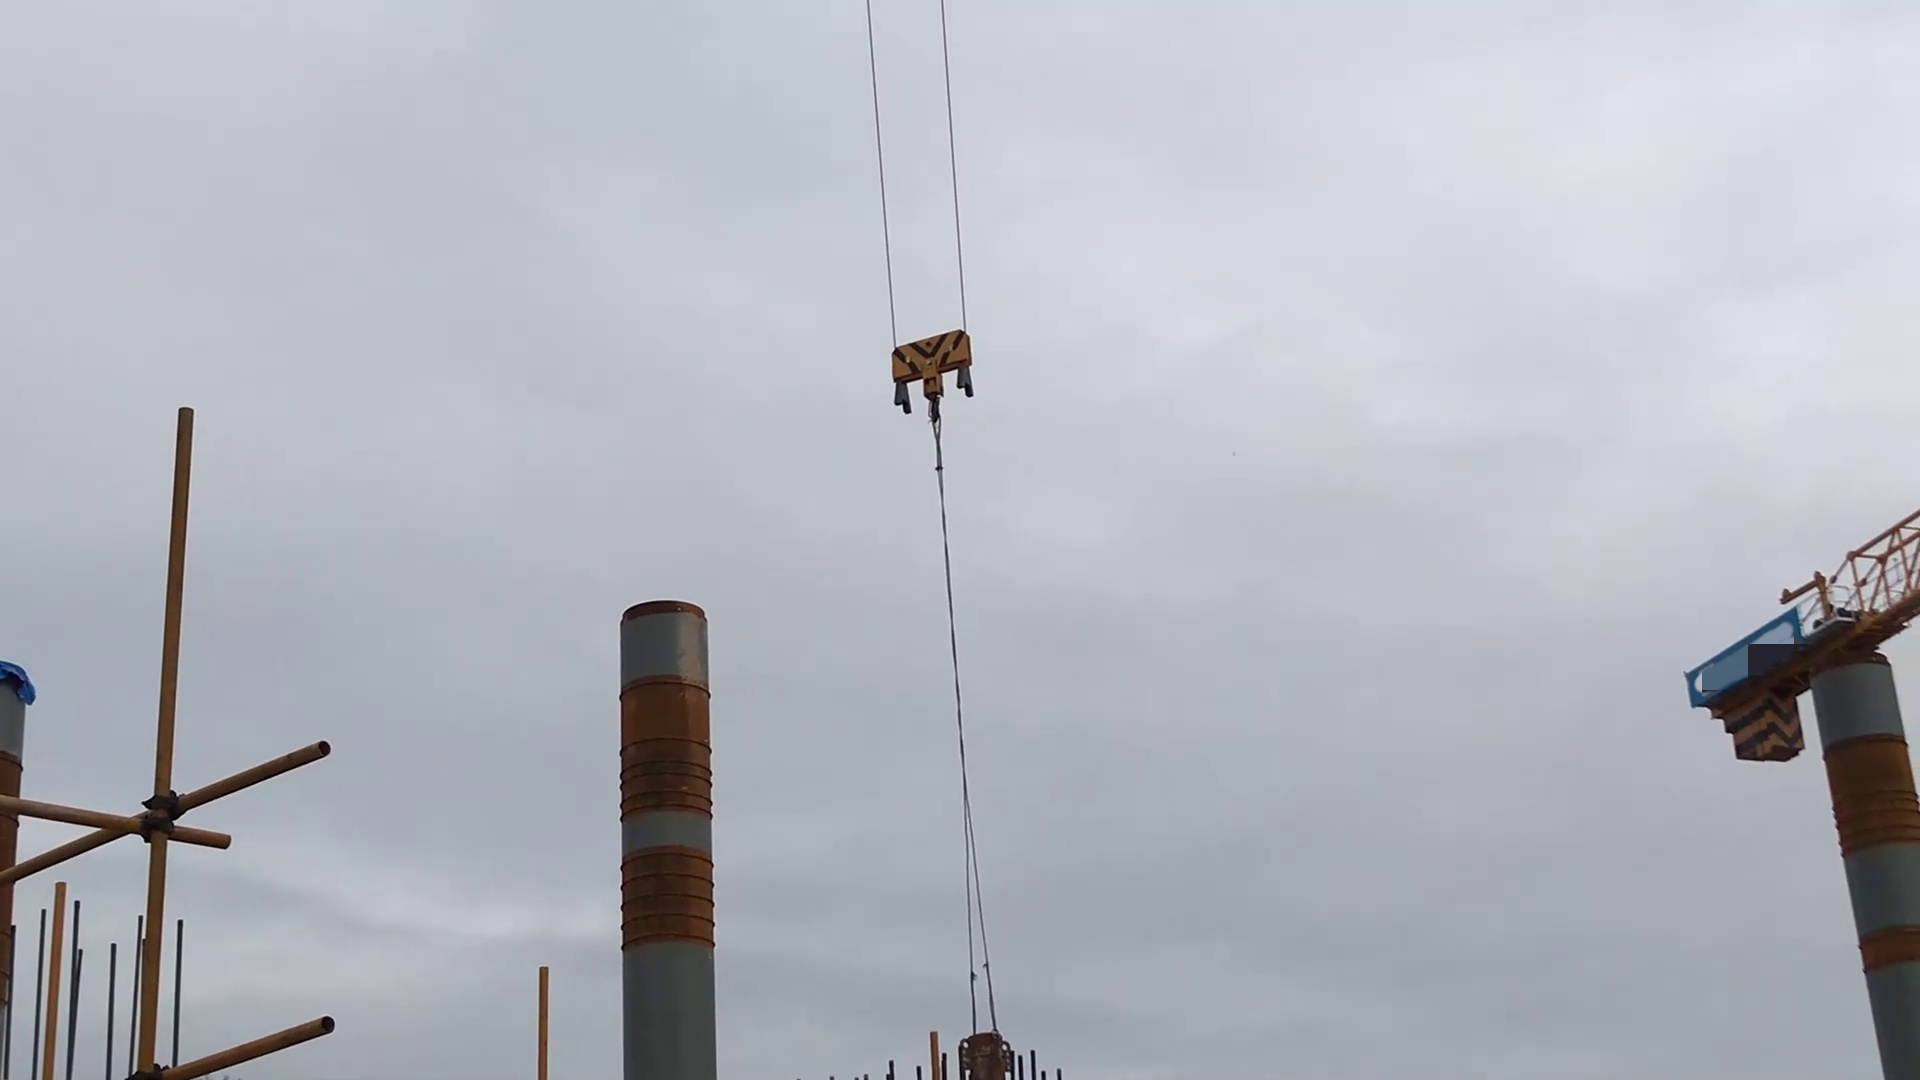hook: (873, 326, 992, 435)
